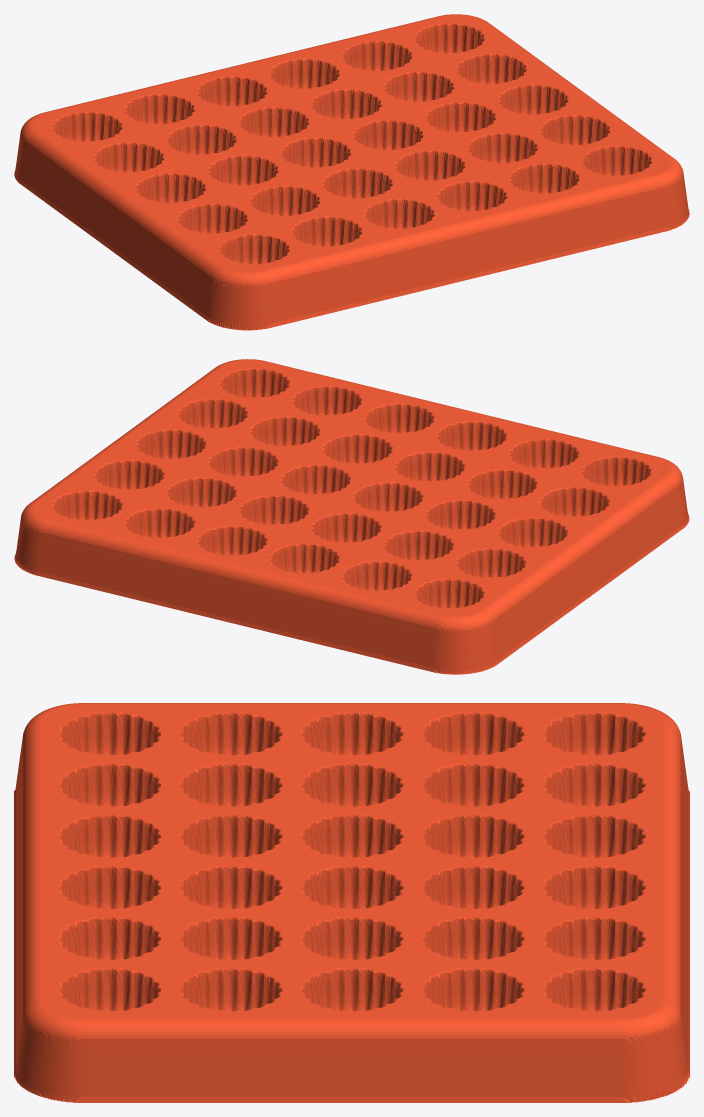
File: mold.glb
3 renders of one model, top to bottom at view 1: azimuth 30°, elevation 25°; view 2: azimuth 150°, elevation 25°; view 3: azimuth 270°, elevation 25°, orthographic. The views are drawn at different scales.
Parts seen in each view (by area): view 1: geometry_0; view 2: geometry_0; view 3: geometry_0.
Boxes of the visible parts, <box> form: geometry_0: <box>14,14,689,330</box>; geometry_0: <box>14,359,689,674</box>; geometry_0: <box>14,703,689,1102</box>.
Bounding box in the file's own units: 0.104 × 0.0105 × 0.0882.
